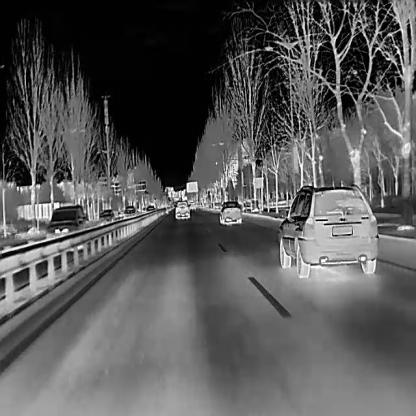car: (277, 181, 378, 278), (48, 204, 88, 248), (218, 199, 241, 223), (173, 198, 189, 218), (97, 208, 114, 226), (122, 204, 136, 218), (146, 203, 154, 214), (189, 201, 195, 209)
